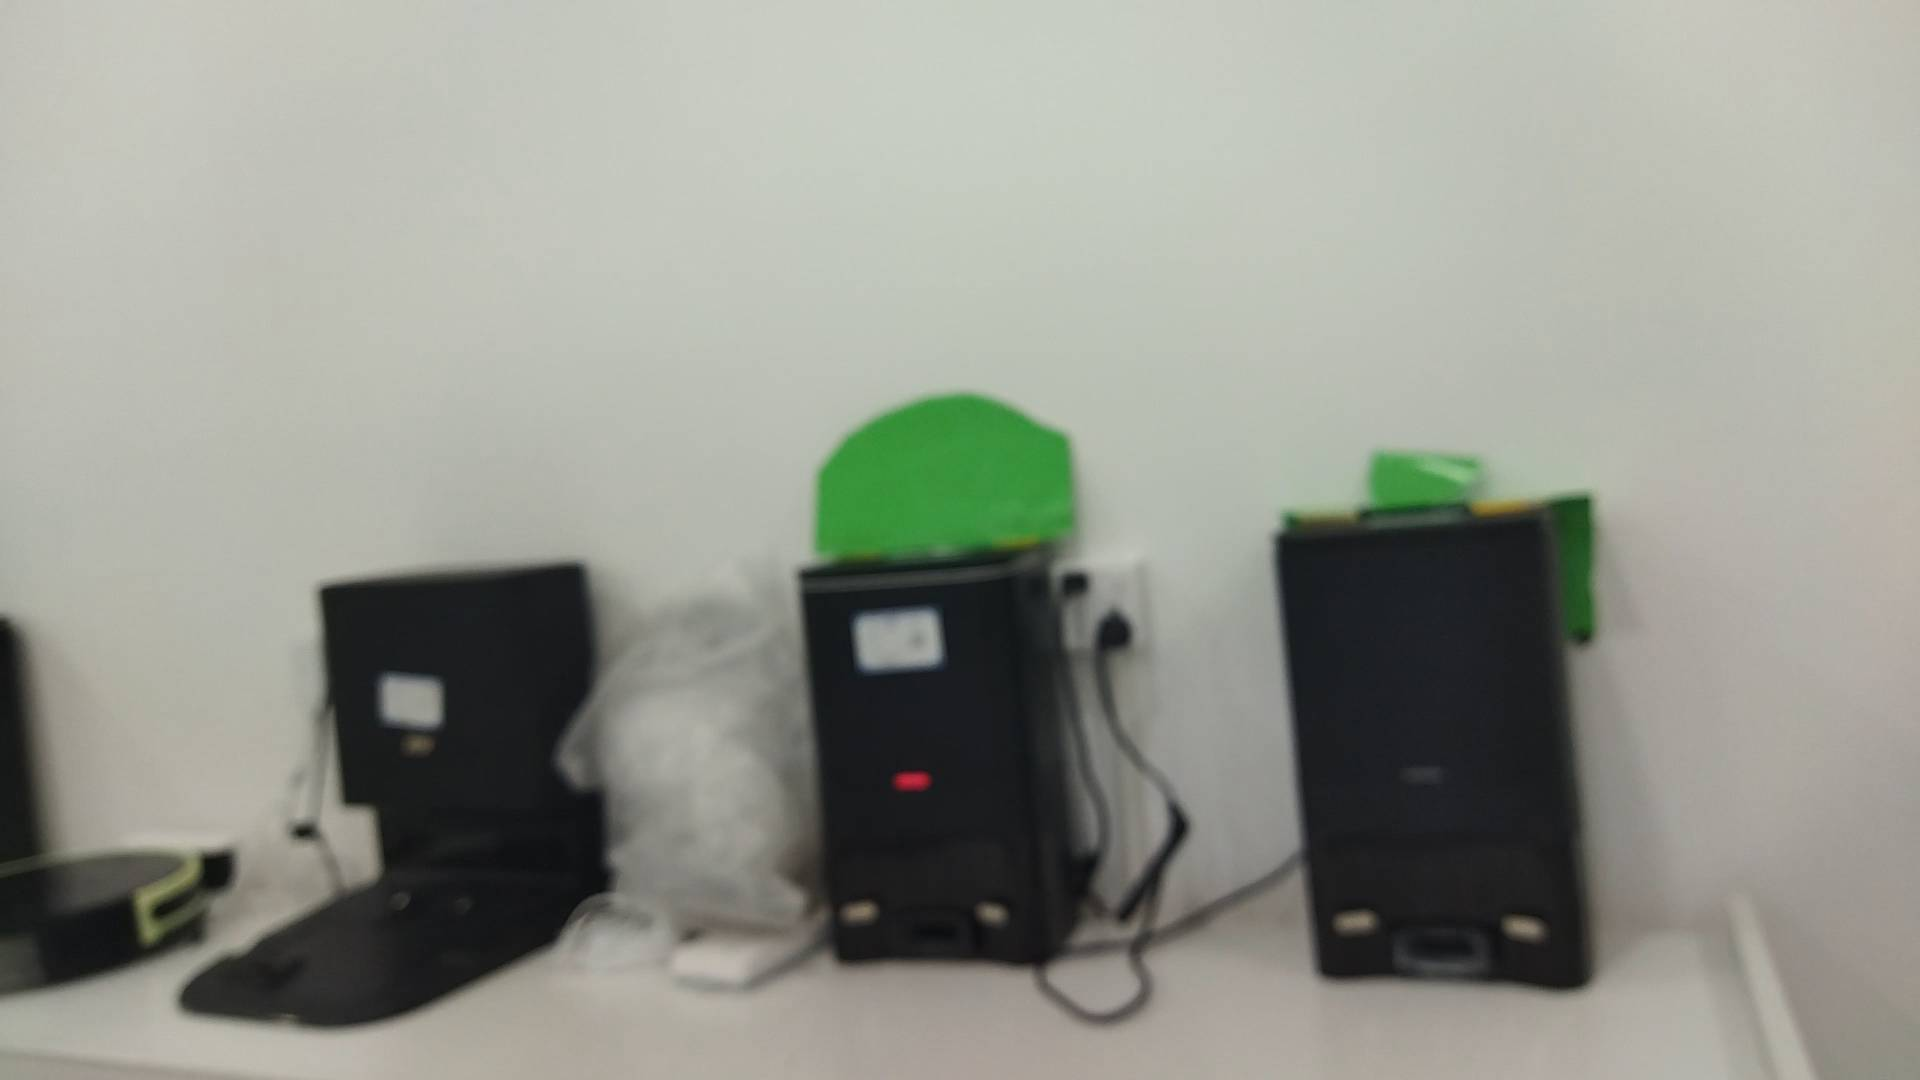dust collecting barrel: (179, 563, 615, 1029), (1273, 504, 1596, 993), (798, 546, 1091, 964)
